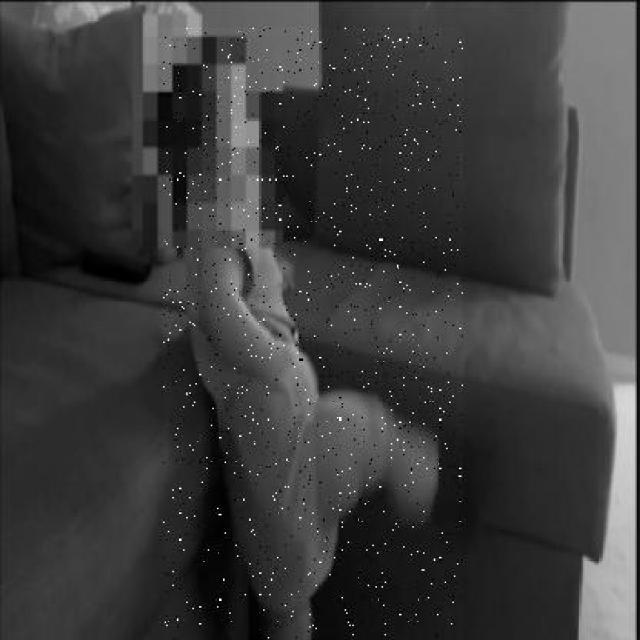child: (163, 27, 463, 640)
